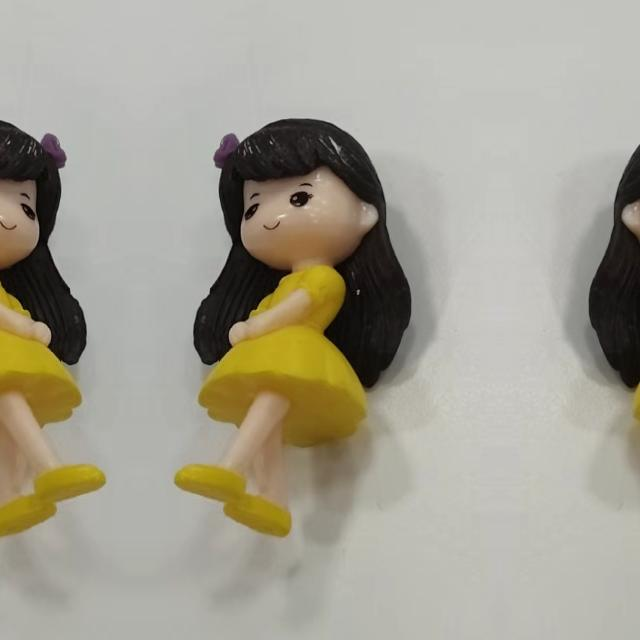woman dress: (207, 270, 386, 532), (0, 269, 73, 532), (614, 269, 640, 532)
woman head: (205, 108, 398, 276), (0, 108, 74, 275), (601, 108, 640, 275)
